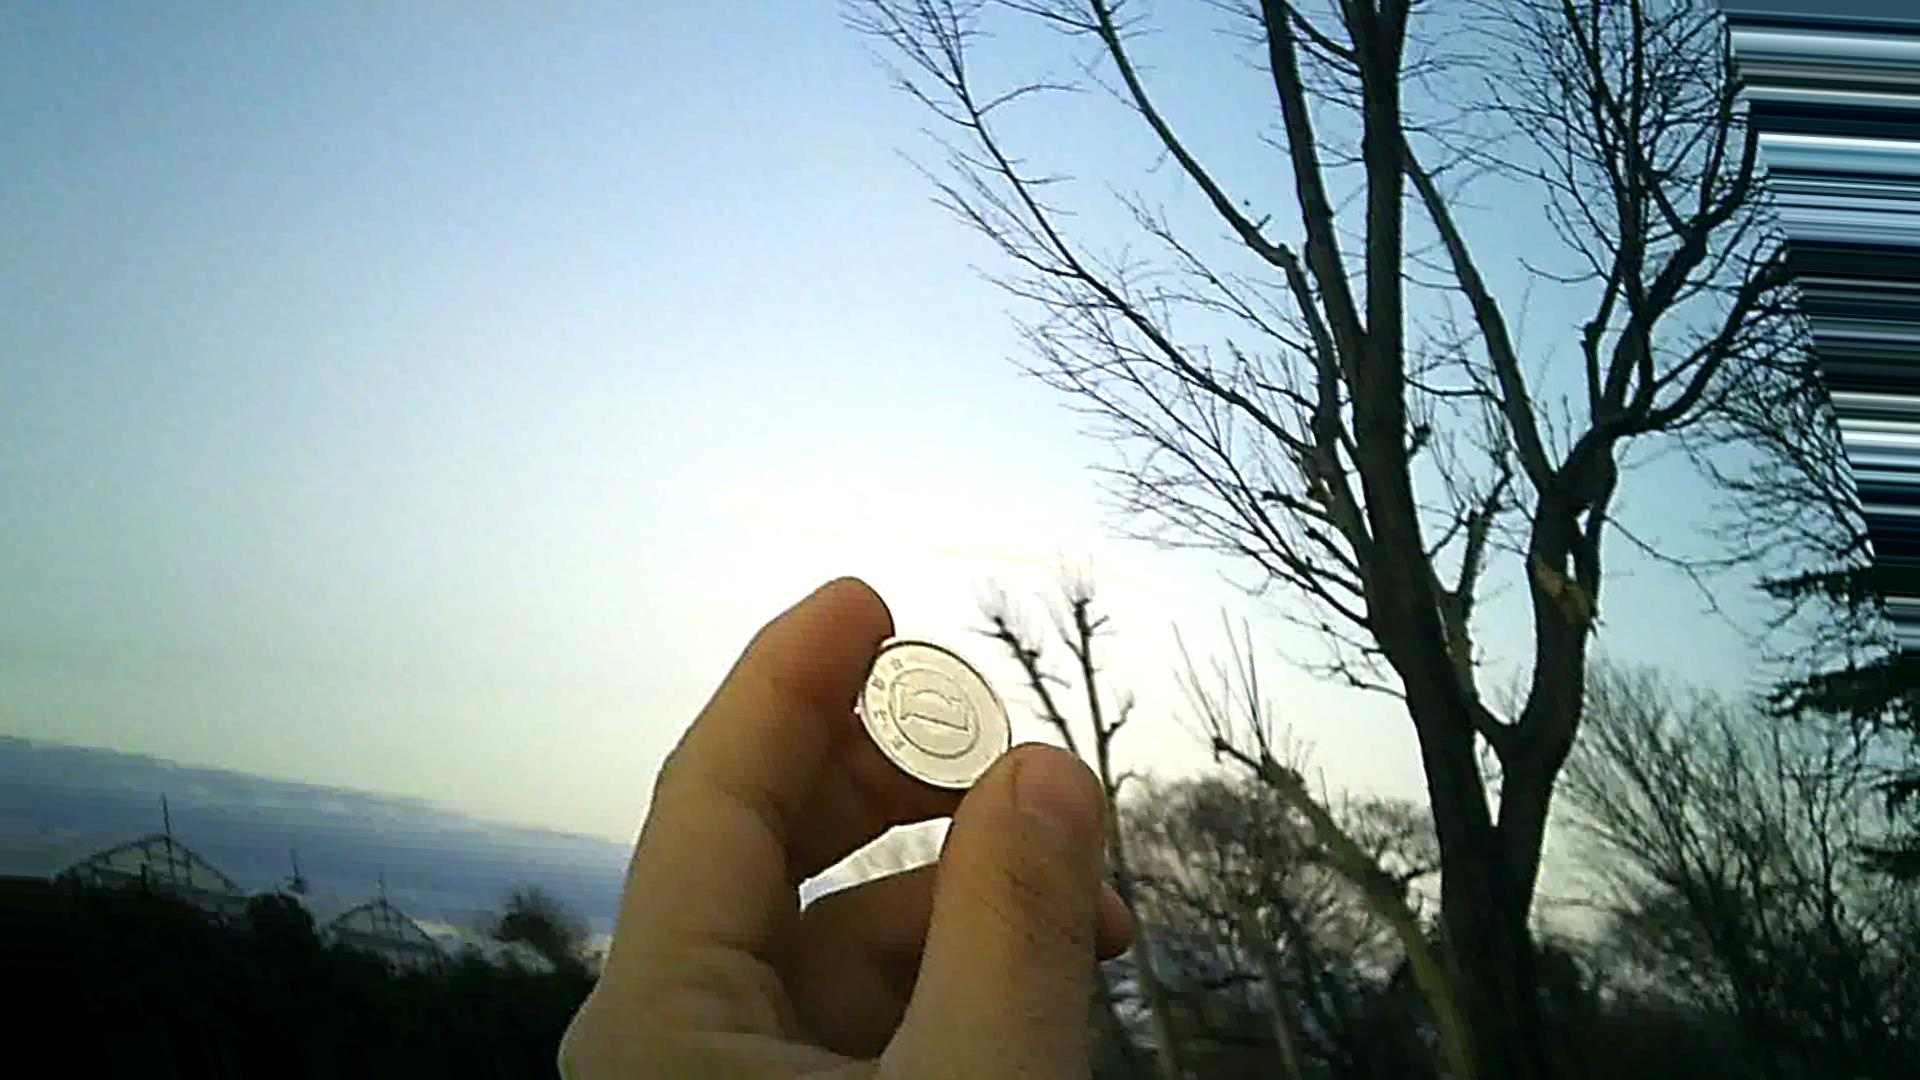1 Yen: (852, 629, 1029, 812)
